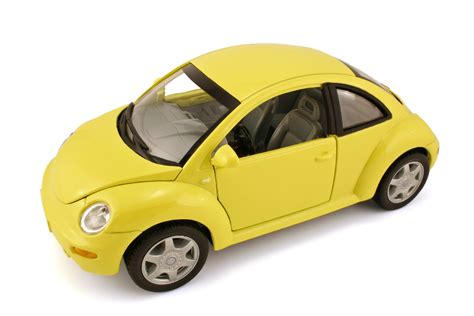???: (39, 42, 440, 293)
